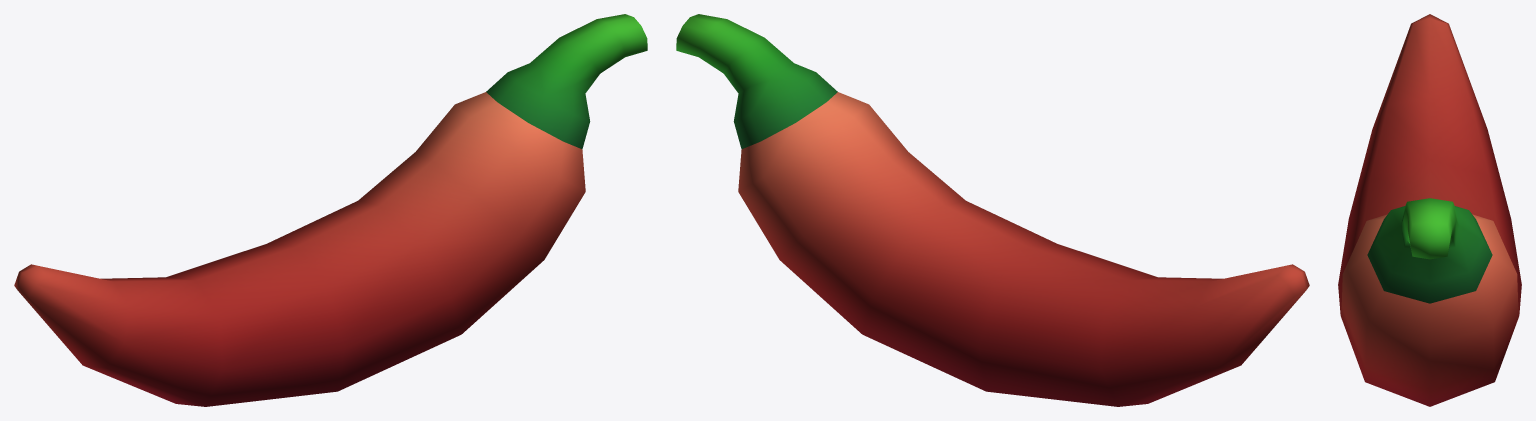
The model's file is Chili_Pepper_02.glb.
3 views of the same model, side by side, from view 1: azimuth 30°, elevation 25°; view 2: azimuth 150°, elevation 25°; view 3: azimuth 270°, elevation 25° (orthographic). The views are drawn at different scales.
Parts seen in each view (by area): view 1: Chili_Pepper_02; view 2: Chili_Pepper_02; view 3: Chili_Pepper_02.
Part boxes in pixels (x1,y1,x2,y2): Chili_Pepper_02: (14, 14, 647, 406); Chili_Pepper_02: (676, 14, 1309, 406); Chili_Pepper_02: (1338, 14, 1521, 406).
Size of the model in its own units: 0.3507 by 0.1572 by 0.0824.
1 material, 1 textured.
